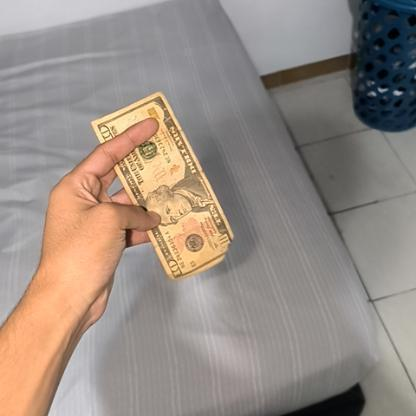dollar_front: (88, 90, 236, 286)
